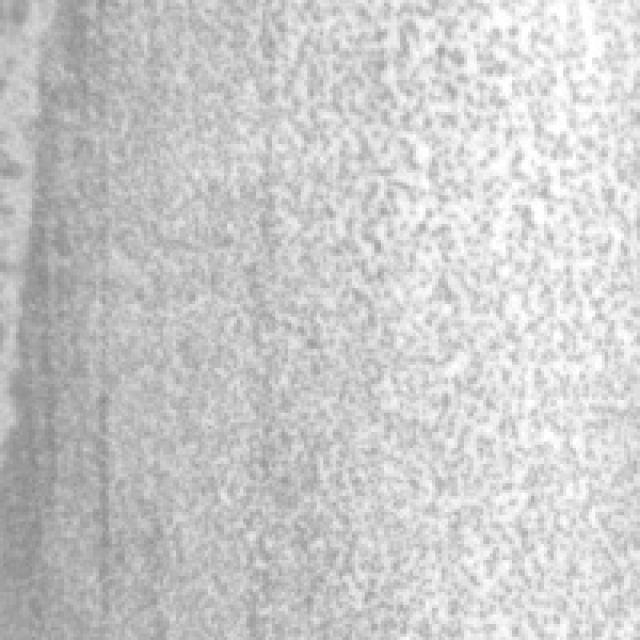pitted_surface: (26, 0, 634, 634)
